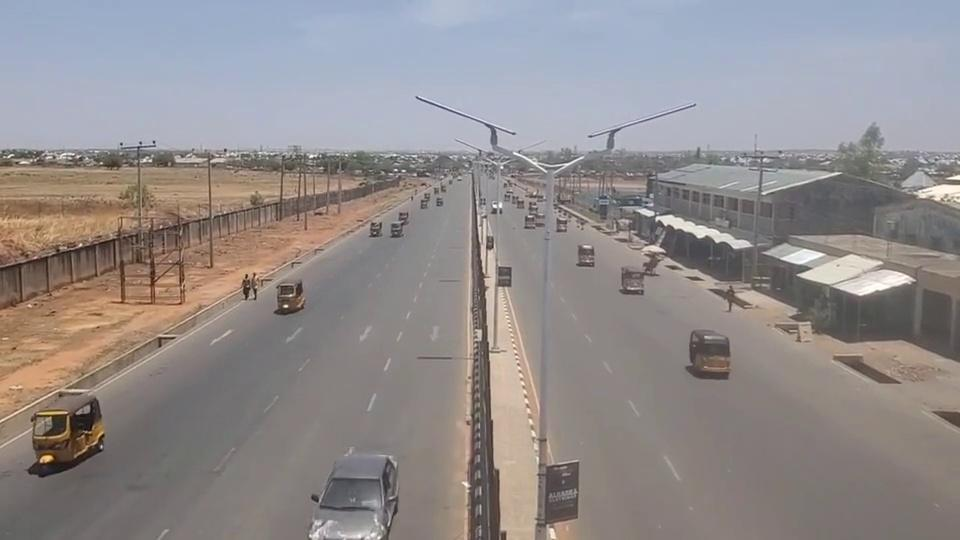car: (307, 452, 399, 539)
keke: (29, 388, 105, 467), (689, 329, 732, 376), (276, 280, 305, 314), (577, 243, 596, 266), (390, 221, 404, 237), (369, 221, 382, 237)
